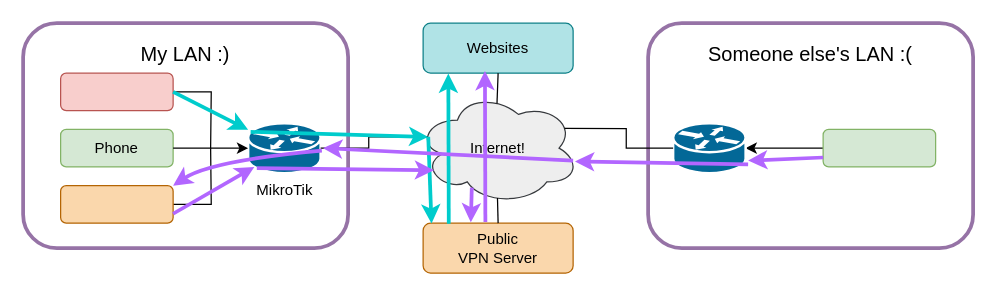
This 996x295 diagram has some shape labels left out. Here are the shapes that lost their labels. From the top down, the box of each, then its label:
(59, 72, 173, 111): Computer
(822, 128, 936, 167): External Phone
(59, 184, 173, 223): Private VPN Server
